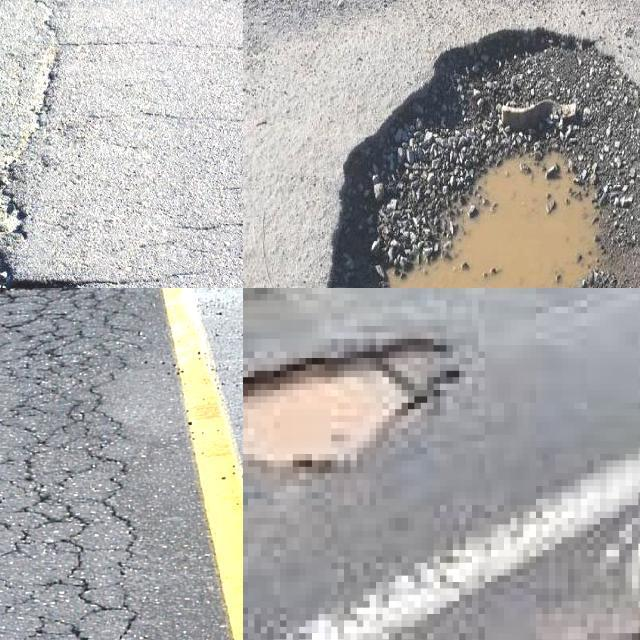Pothole: (325, 28, 640, 288), (243, 339, 459, 473), (0, 288, 93, 297)
